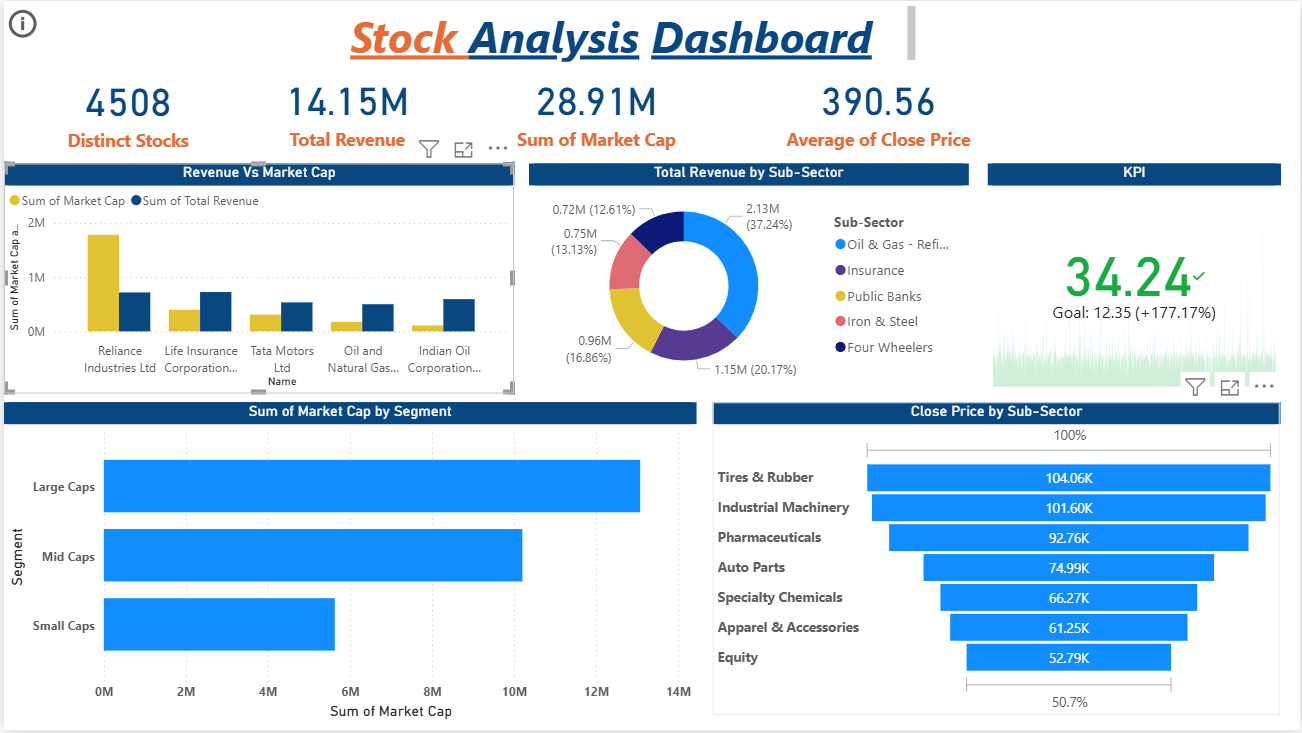

This screenshot's page, from the dashboard's own definition file:
{"tool":"powerbi","page":{"name":"Summary","canvas":[1280,720],"ordinal":0},"visuals":[{"type":"card","fields":{"Values":["Stock+Market+Dataset+for+Case+2 (1).Distinct Stocks"]},"box":[12.1,56.7,220.8,102.5],"z":0},{"type":"card","fields":{"Values":["Stock+Market+Dataset+for+Case+2 (1).Total Rev"]},"box":[220.8,56.7,236.5,100.1],"z":1000},{"type":"card","fields":{"Values":["Sum(Stock+Market+Dataset+for+Case+2 (1).Market Cap)"]},"box":[457.2,54.3,257,105],"z":2000},{"type":"card","fields":{"Values":["Avg(Stock+Market+Dataset+for+Case+2 (1).Close Price)"]},"box":[746.8,56.7,234,100.1],"z":3000},{"type":"clusteredColumnChart","title":"Revenue Vs Market Cap","fields":{"Category":["Stock+Market+Dataset+for+Case+2 (1).Name"],"Y":["Sum(Stock+Market+Dataset+for+Case+2 (1).Market Cap)","Sum(Stock+Market+Dataset+for+Case+2 (1).Total Revenue)"]},"box":[0,160.5,504.3,226.8],"z":4000},{"type":"donutChart","title":" Total Revenue by Sub-Sector","fields":{"Category":["Stock+Market+Dataset+for+Case+2 (1).Sub-Sector"],"Y":["Sum(Stock+Market+Dataset+for+Case+2 (1).Total Revenue)"]},"box":[518.8,160.5,434.3,225.6],"z":5000},{"type":"kpi","title":"KPI ","fields":{"Goal":["Sum(Stock+Market+Dataset+for+Case+2 (1).1Y Forward Revenue Growth)"],"TrendLine":["Stock+Market+Dataset+for+Case+2 (1).Name"],"Indicator":["Sum(Stock+Market+Dataset+for+Case+2 (1).5Y Historical Revenue Growth)"]},"box":[971.2,160.5,289.5,225.6],"z":6000},{"type":"barChart","fields":{"Category":["Stock+Market+Dataset+for+Case+2 (1).Segment","Stock+Market+Dataset+for+Case+2 (1).Sub-Sector","Stock+Market+Dataset+for+Case+2 (1).Name"],"Y":["Sum(Stock+Market+Dataset+for+Case+2 (1).Market Cap)"]},"box":[0,395.7,684.1,318.5],"z":7000},{"type":"textbox","box":[336.6,0,568.2,65.1],"z":8000},{"type":"funnel","title":"Close Price by Sub-Sector","fields":{"Category":["Stock+Market+Dataset+for+Case+2 (1).Sub-Sector"],"Y":["Sum(Stock+Market+Dataset+for+Case+2 (1).Close Price)"]},"box":[699.7,395.7,561,310.1],"z":9000},{"type":"actionButton","box":[0,0,36.9,45.2],"z":10000}]}

Visuals, with their boxes in screenshot pixels (x1, y1, x2, y2), scaled from the page's 1280x720 canvas onto the 1302x733 screenshot:
card - Stock+Market+Dataset+for+Case+2 (1).Distinct Stocks: <region>12, 58, 237, 162</region>
card - Stock+Market+Dataset+for+Case+2 (1).Total Rev: <region>225, 58, 465, 160</region>
card - Sum(Stock+Market+Dataset+for+Case+2 (1).Market Cap): <region>465, 55, 726, 162</region>
card - Avg(Stock+Market+Dataset+for+Case+2 (1).Close Price): <region>760, 58, 998, 160</region>
"Revenue Vs Market Cap" clusteredColumnChart: <region>0, 163, 513, 394</region>
" Total Revenue by Sub-Sector" donutChart: <region>528, 163, 969, 393</region>
"KPI " kpi: <region>988, 163, 1282, 393</region>
barChart - Stock+Market+Dataset+for+Case+2 (1).Segment x Stock+Market+Dataset+for+Case+2 (1).Sub-Sector: <region>0, 403, 696, 727</region>
textbox: <region>342, 0, 920, 66</region>
"Close Price by Sub-Sector" funnel: <region>712, 403, 1282, 719</region>
actionButton: <region>0, 0, 38, 46</region>
